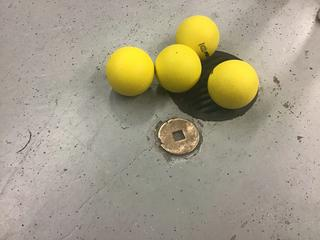power_cell: (209, 59, 259, 111), (106, 46, 154, 96), (155, 43, 201, 95), (175, 15, 219, 56)
